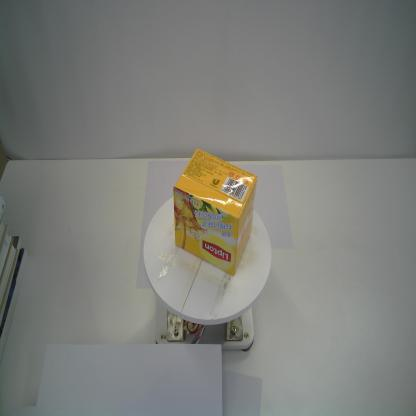Instant Drink: (172, 147, 258, 277)
